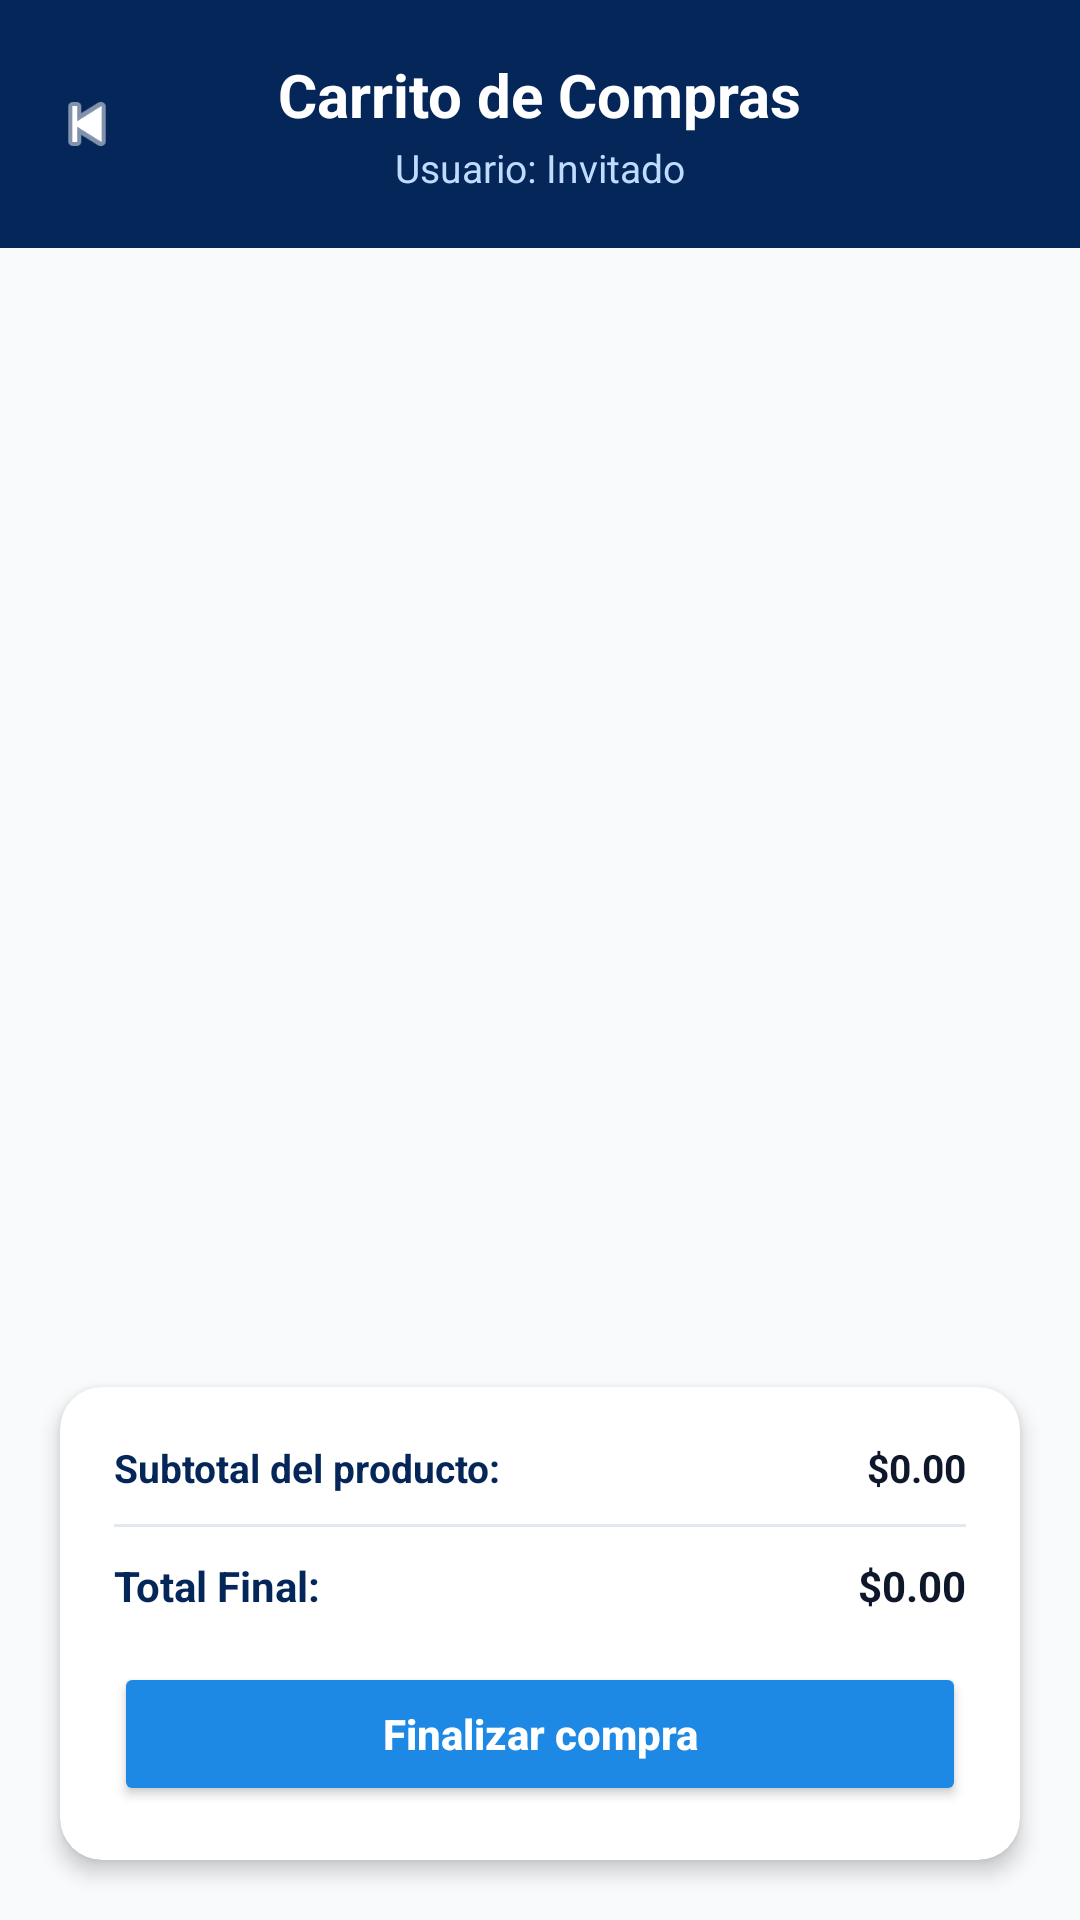

Icons on this 1080 × 1920 Android screen, each with the point to tap as (x,y):
Regresar: (87,124)
